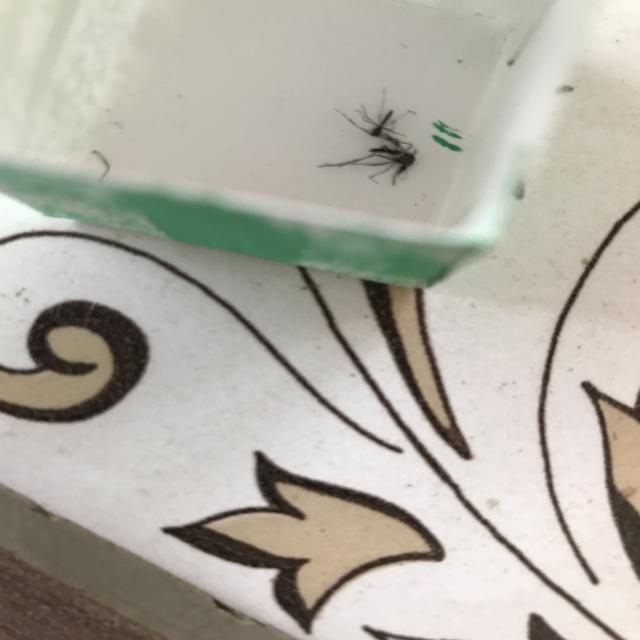albopictus: (316, 83, 442, 191)
